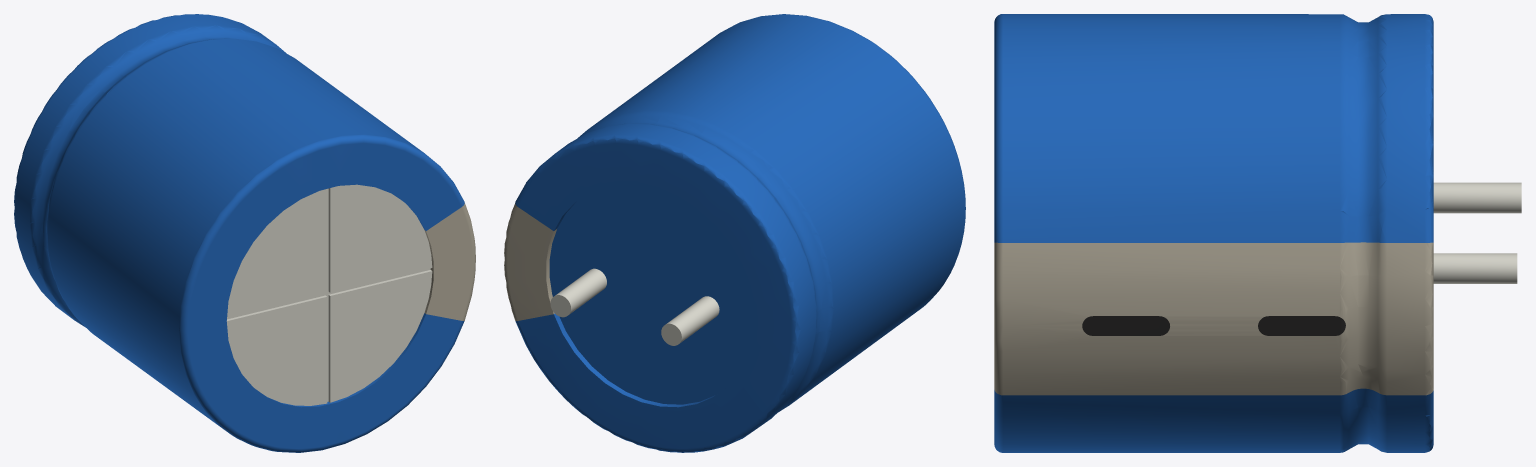
The model's file is cp-radial-d10.0-p3.80.glb.
The picture shows the model from 3 angles, left to right: view 1: azimuth 30°, elevation 25°; view 2: azimuth 150°, elevation 25°; view 3: azimuth 270°, elevation 25°; orthographic projection. The views are drawn at different scales.
Parts seen in each view (by area): view 1: PLASTIC-BLUE-01, PIN-01, IC-LABEL-01; view 2: PLASTIC-BLUE-01, IC-LABEL-01, PIN-01; view 3: PLASTIC-BLUE-01, IC-LABEL-01, PIN-01, IC-BODY-EPOXY-04.
Boxes of the visible parts, x1,y1,x2,y2 form: PLASTIC-BLUE-01: [14, 14, 464, 452]; PIN-01: [226, 184, 432, 405]; IC-LABEL-01: [424, 203, 475, 320]; PLASTIC-BLUE-01: [515, 14, 965, 452]; IC-LABEL-01: [504, 203, 556, 320]; PIN-01: [550, 268, 719, 345]; PLASTIC-BLUE-01: [994, 14, 1433, 452]; IC-LABEL-01: [994, 242, 1433, 395]; PIN-01: [1433, 182, 1521, 283]; IC-BODY-EPOXY-04: [1082, 316, 1345, 335].
Size of the model in its own units: 10 by 10 by 12.
